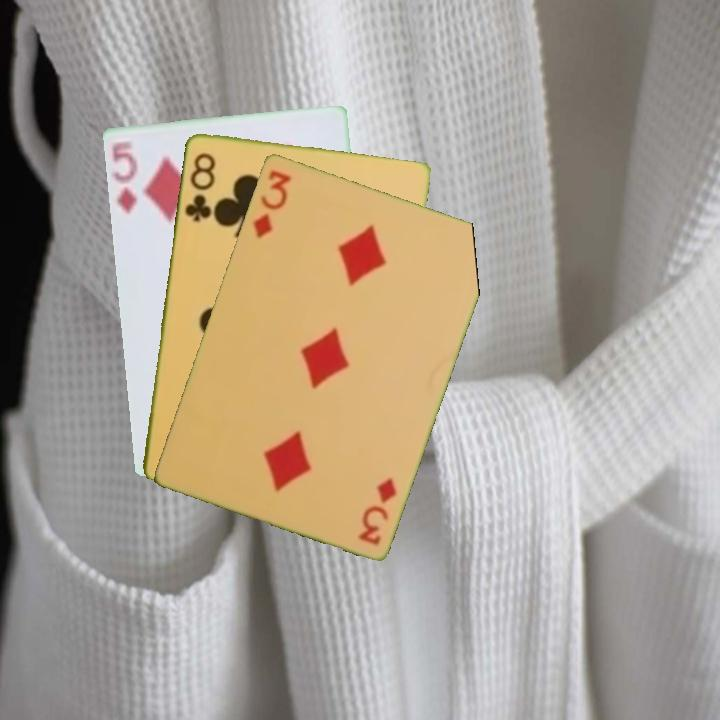3d: (354, 473, 400, 548), (249, 166, 293, 241)
5d: (108, 136, 140, 217)
8c: (180, 148, 218, 224)
